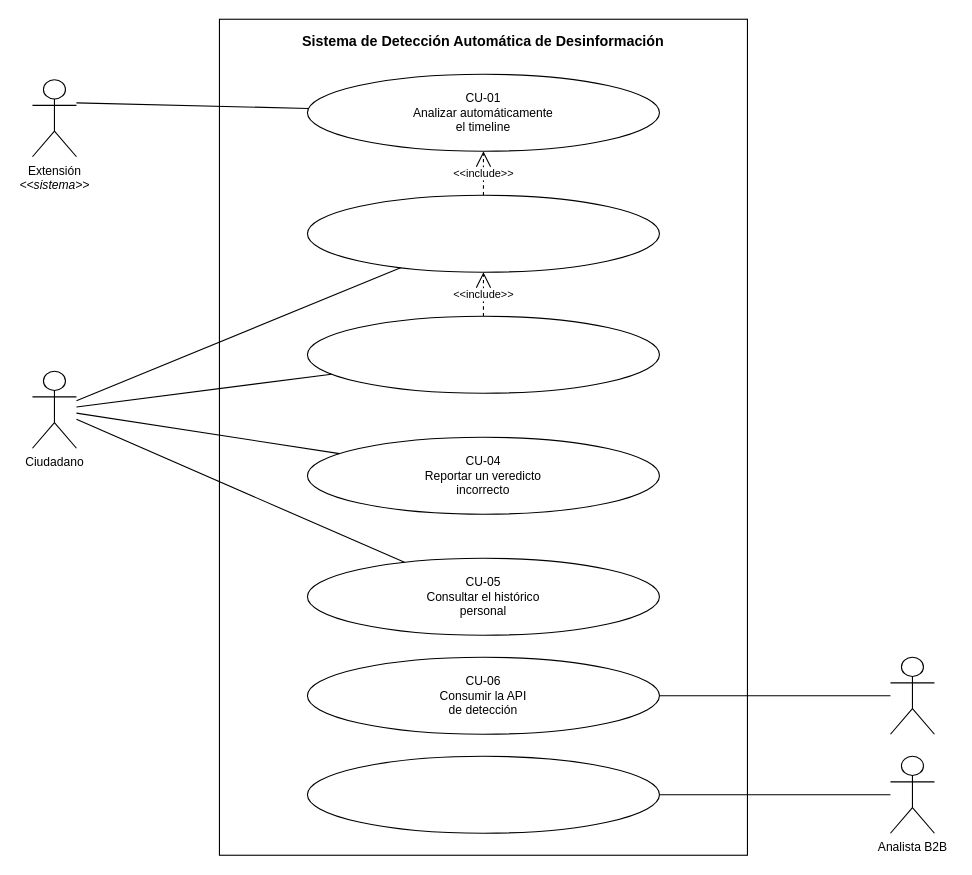
Image size: 972x875. Some labels were removed from this diagram. Here are the shapes that lost their labels. From the top down, the centre of each, then its label:
(x=482, y=233): CU-02 Solicitar el análisis profundo de un tuit
(x=482, y=354): CU-03 Consultar la evidencia de un veredicto
(x=911, y=695): Sistema cliente <<sistema>>
(x=482, y=794): CU-07 Consultar el panel de tendencias
